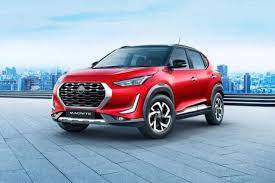Nissan: (52, 42, 225, 136)
